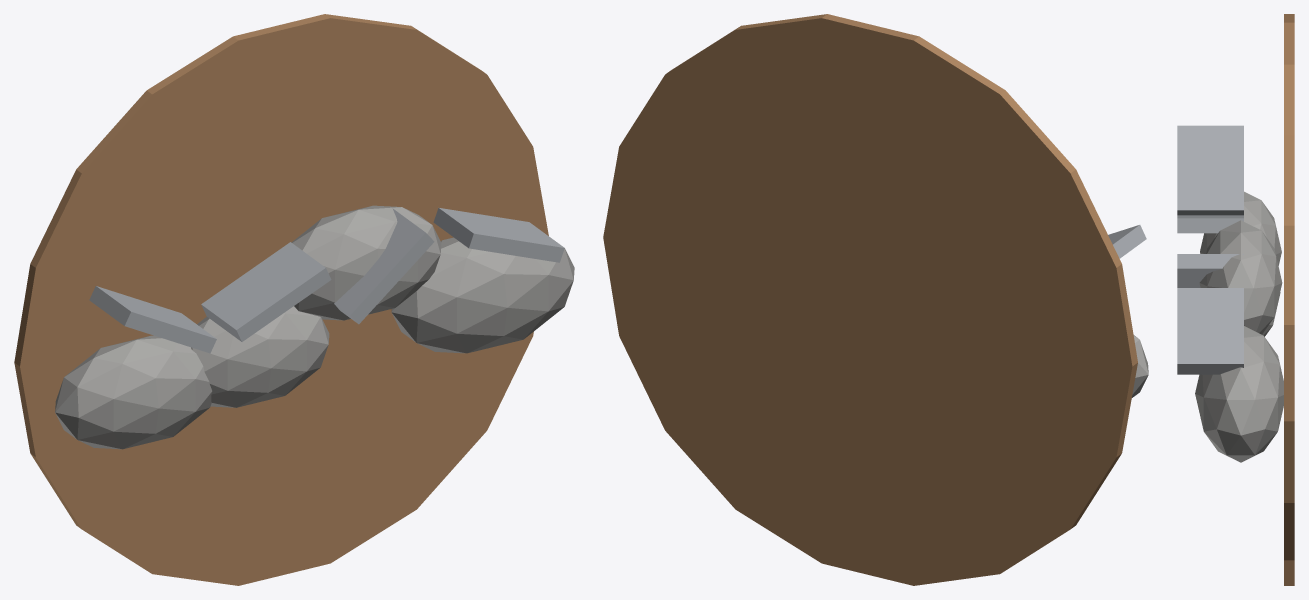
File: 02_local_prop_cluster.glb
The picture shows the model from 3 angles, left to right: view 1: azimuth 30°, elevation 25°; view 2: azimuth 150°, elevation 25°; view 3: azimuth 270°, elevation 25°; orthographic projection. The views are drawn at different scales.
Visible parts, largest first — view 1: scatter_base, scrap_rock_3, scrap_rock_0, scrap_rock_1, scrap_rock_2, scrap_plate_1, scrap_plate_3, scrap_plate_2, scrap_plate_0; view 2: scatter_base, scrap_plate_0; view 3: scrap_rock_3, scatter_base, scrap_plate_0, scrap_plate_3, scrap_rock_2, scrap_rock_0, scrap_plate_2, scrap_plate_1.
Part boxes in pixels (bbox=[...]): scatter_base: bbox=[14, 14, 548, 585]; scrap_rock_3: bbox=[391, 237, 574, 353]; scrap_rock_0: bbox=[55, 335, 212, 449]; scrap_rock_1: bbox=[191, 306, 329, 407]; scrap_rock_2: bbox=[291, 205, 441, 320]; scrap_plate_1: bbox=[201, 242, 331, 341]; scrap_plate_3: bbox=[433, 207, 564, 262]; scrap_plate_2: bbox=[334, 207, 434, 324]; scrap_plate_0: bbox=[89, 286, 216, 353]; scatter_base: bbox=[603, 14, 1137, 585]; scrap_plate_0: bbox=[1108, 225, 1146, 258]; scrap_rock_3: bbox=[1195, 326, 1283, 462]; scatter_base: bbox=[1284, 14, 1294, 585]; scrap_plate_0: bbox=[1177, 125, 1243, 215]; scrap_plate_3: bbox=[1177, 288, 1243, 374]; scrap_rock_2: bbox=[1199, 220, 1282, 334]; scrap_rock_0: bbox=[1200, 191, 1281, 265]; scrap_plate_2: bbox=[1177, 254, 1243, 287]; scrap_plate_1: bbox=[1177, 215, 1243, 233].
Bounding box in the file's own units: 1.91 × 1.87 × 0.3875.
